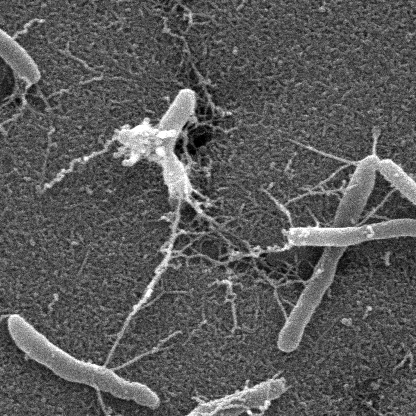cell2cell: (100, 203, 185, 366)
cell2surface: (111, 331, 185, 375), (276, 173, 358, 209), (289, 136, 365, 172), (89, 385, 130, 416)
curved: (154, 88, 200, 201)
filament: (278, 157, 380, 351), (8, 314, 163, 411), (287, 218, 416, 248)
regular: (150, 373, 293, 416), (378, 157, 416, 251), (0, 14, 45, 86)
